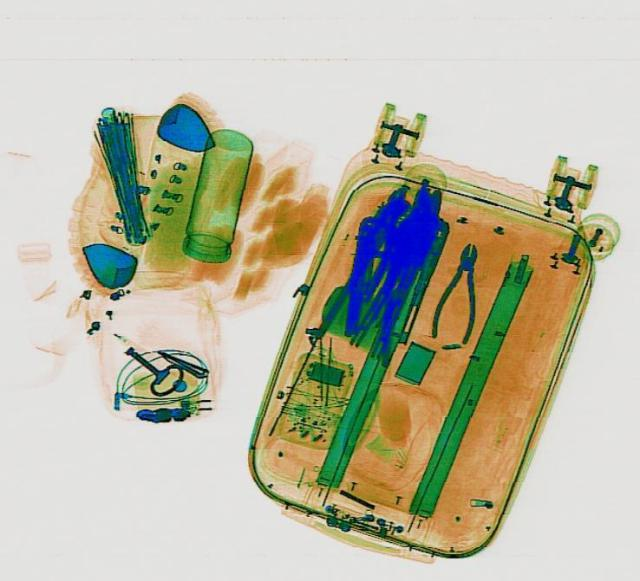Pliers: (426, 240, 492, 343)
